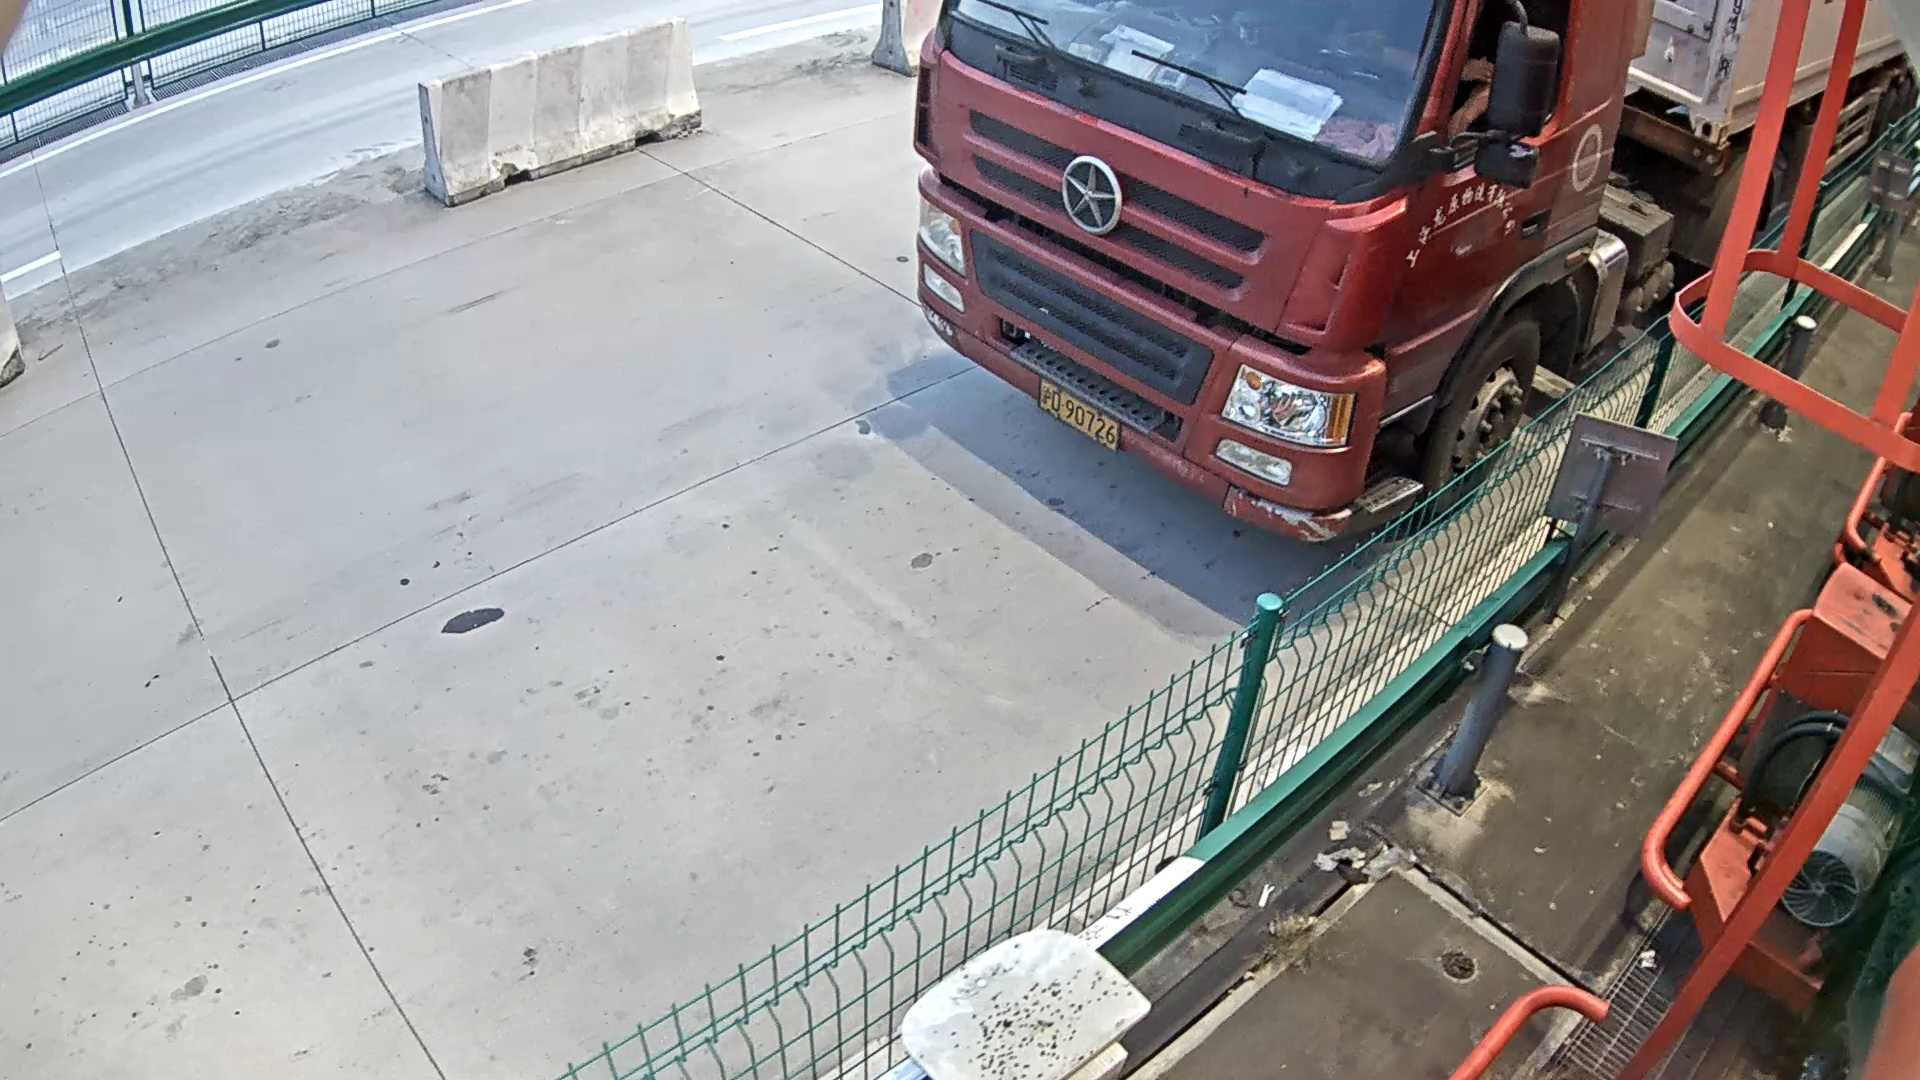head: (901, 17, 1524, 569)
plate: (1038, 383, 1138, 458)
